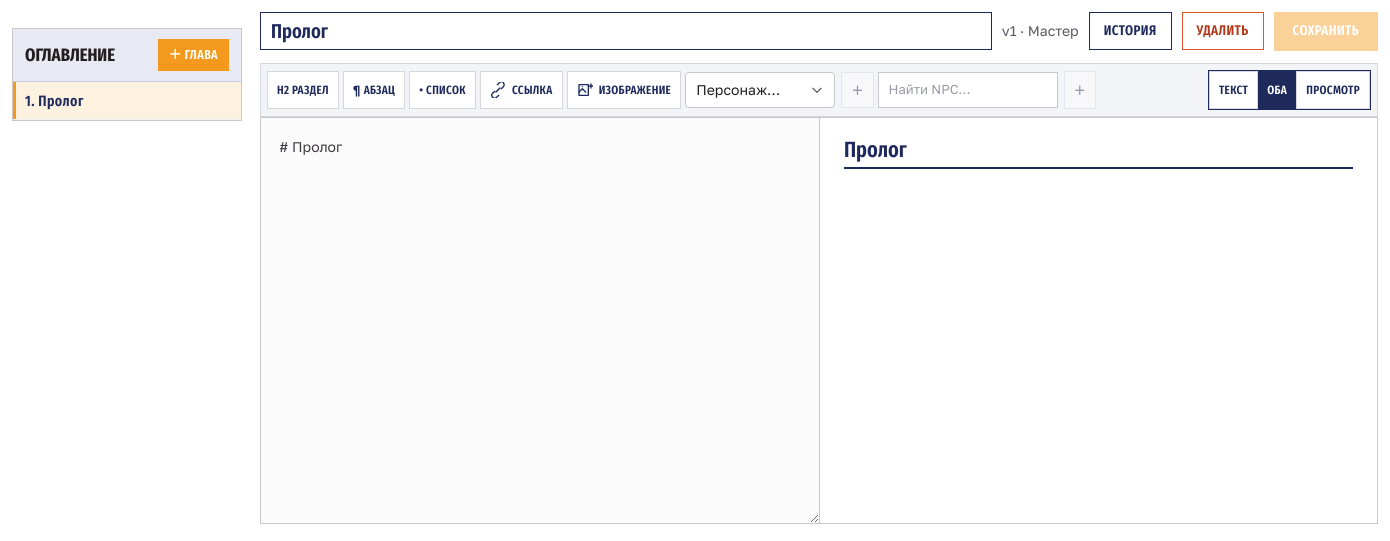
Test case: CampaignChronicleTab — links › filters @ suggestions and inserts an NPC link with a click
The image size is (1390, 541).
Replace the text in the text box named "Markdown-текст главы" with "У ворот @гоб" at (540, 320), box [261,118,819,523]
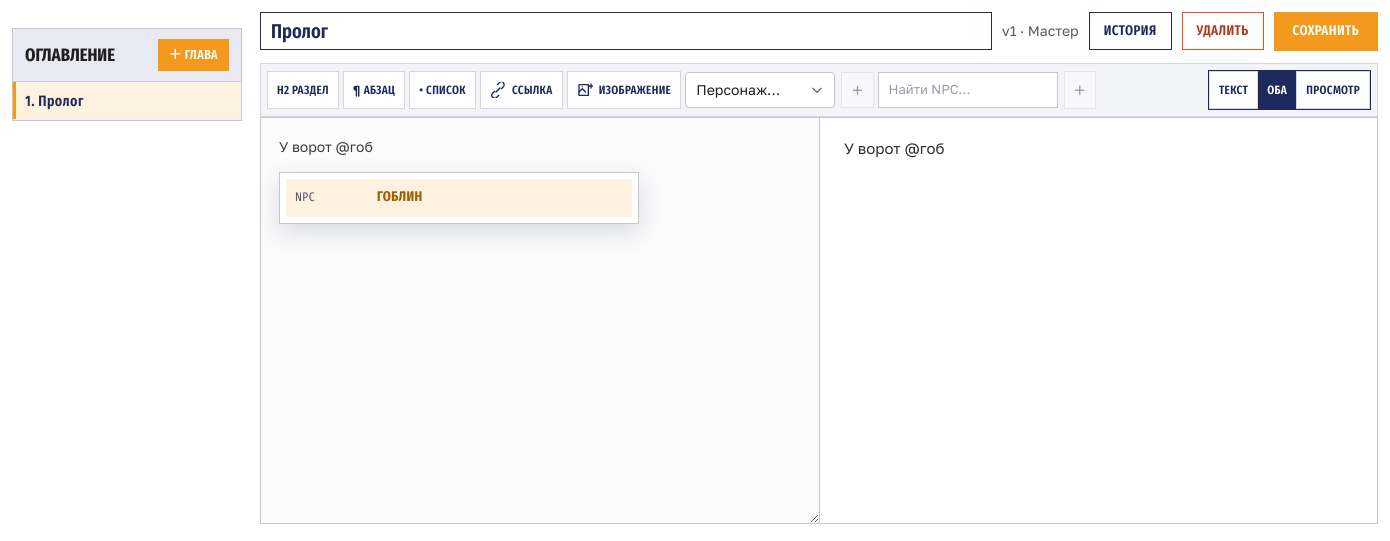
Click the option "NPC Гоблин" at (400, 197), box [286,179,632,217]
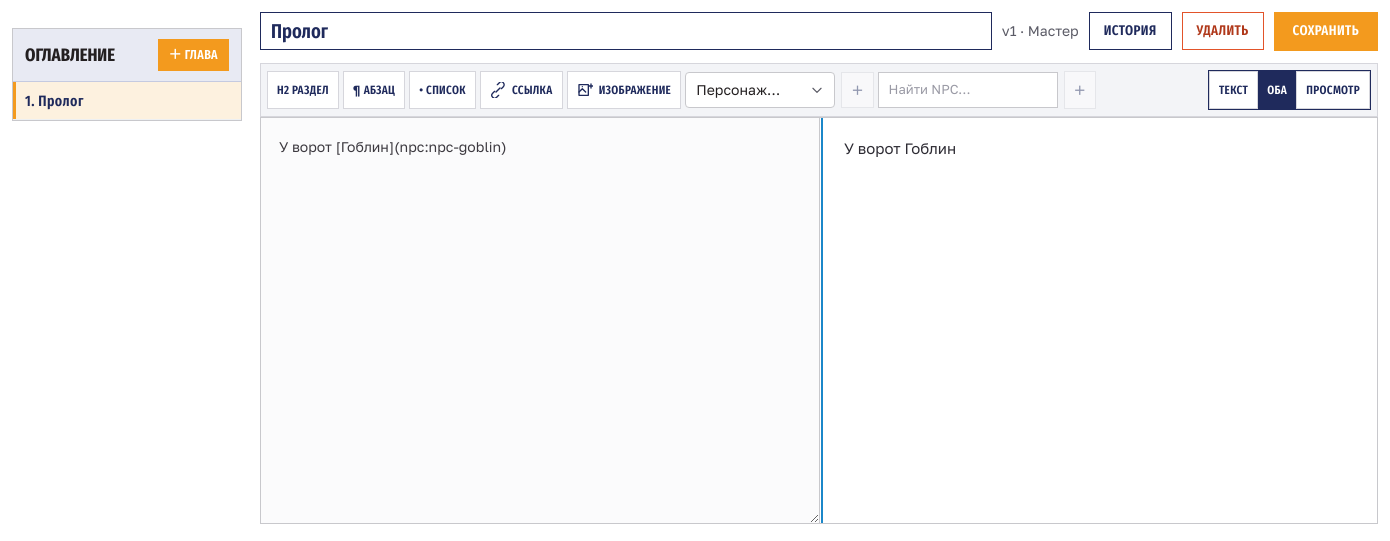
Check: the text box named "Markdown-текст главы" holds "У ворот [Гоблин](npc:npc-goblin) ", box [261,118,819,523]
